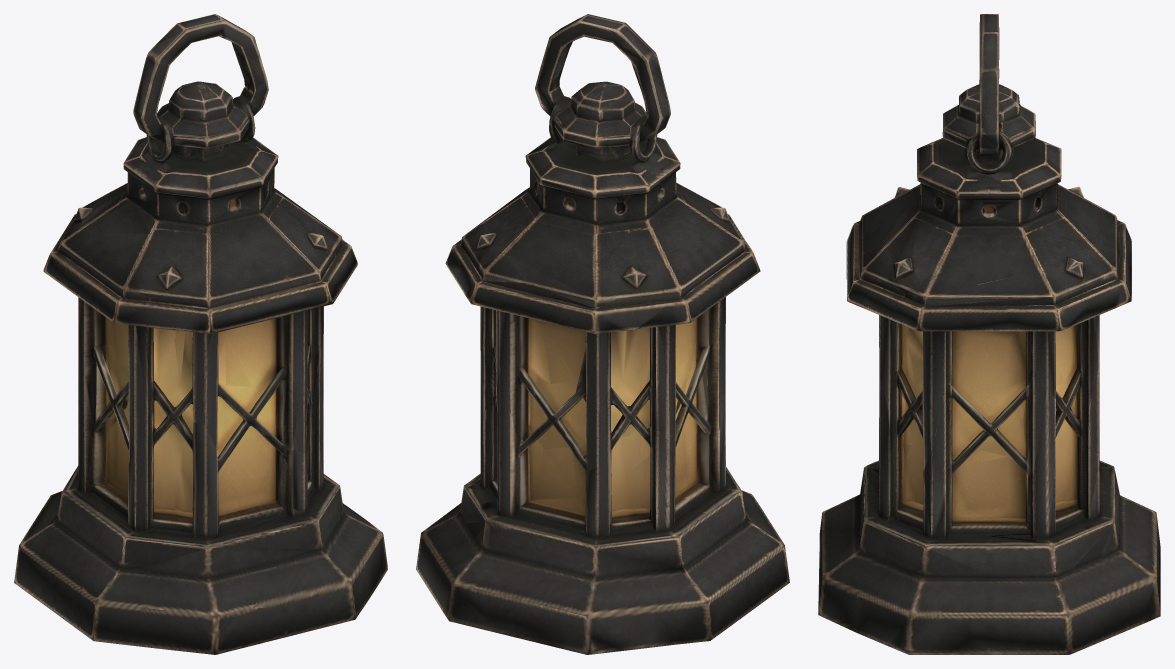
The model's file is lamparina.fbx.
3 renders of one model, left to right at view 1: azimuth 30°, elevation 25°; view 2: azimuth 150°, elevation 25°; view 3: azimuth 270°, elevation 25°, orthographic.
Parts seen in each view (by area): view 1: mesh_node; view 2: mesh_node; view 3: mesh_node.
Part boxes in pixels (box(x1,y1,x2,y2)): mesh_node: box(14, 14, 387, 654); mesh_node: box(416, 14, 789, 654); mesh_node: box(818, 14, 1160, 654).
Size of the model in its own units: 105 by 190 by 105.
Materials: 1 (1 with a texture image).
